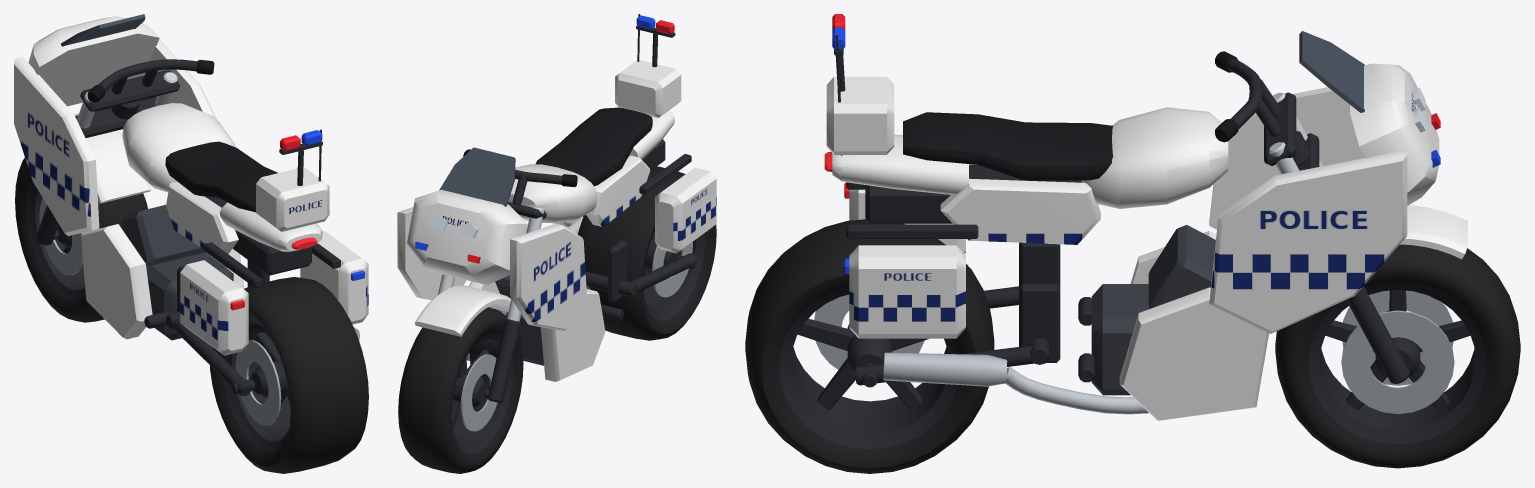
The model's file is MotorcycleTag_Police.glb.
3 views of the same model, side by side, from view 1: azimuth 30°, elevation 25°; view 2: azimuth 150°, elevation 25°; view 3: azimuth 270°, elevation 25° (orthographic). The views are drawn at different scales.
Visible parts, largest first — view 1: Bodywork, RearWheel, Panniers, FrontWheel, Engine, Seat, Frame, Fork, FrontFender, Handlebars, Swingarm, Windshield (+2 smaller); view 2: Bodywork, FrontWheel, RearWheel, Panniers, Seat, Windshield, FrontFender, Fork, Frame, Swingarm, Engine, Handlebars (+1 smaller); view 3: Bodywork, FrontWheel, RearWheel, Panniers, Frame, Seat, Engine, Exhaust, Fork, Windshield, Handlebars, FrontFender (+1 smaller).
Boxes of the visible parts, box(x1,y1,x2,y2) form: Bodywork: box(14, 16, 322, 339); RearWheel: box(210, 277, 368, 473); Panniers: box(180, 129, 368, 355); FrontWheel: box(15, 158, 147, 322); Engine: box(121, 204, 233, 340); Seat: box(165, 141, 277, 212); Frame: box(111, 100, 340, 328); Fork: box(36, 70, 180, 245); FrontFender: box(74, 113, 151, 203); Handlebars: box(87, 59, 214, 102); Swingarm: box(166, 311, 255, 396); Windshield: box(61, 14, 145, 46); Bodywork: box(397, 110, 674, 381); FrontWheel: box(398, 307, 523, 473); RearWheel: box(578, 166, 716, 340); Panniers: box(552, 14, 716, 253); Seat: box(535, 107, 652, 186); Windshield: box(439, 147, 515, 206); FrontFender: box(415, 285, 511, 336); Fork: box(438, 202, 546, 402); Frame: box(583, 139, 691, 320); Swingarm: box(585, 253, 697, 296); Engine: box(494, 275, 590, 365); Handlebars: box(463, 149, 577, 204); Bodywork: box(832, 63, 1439, 420); FrontWheel: box(1275, 244, 1520, 468); RearWheel: box(745, 219, 994, 473); Panniers: box(826, 35, 965, 338); Frame: box(846, 131, 1311, 382); Seat: box(903, 112, 1113, 180); Engine: box(1091, 225, 1215, 395); Exhaust: box(883, 352, 1148, 414); Fork: box(1264, 92, 1409, 383); Windshield: box(1299, 31, 1364, 112); Handlebars: box(1215, 51, 1281, 142); FrontFender: box(1400, 205, 1467, 259).
Size of the model in its own units: 2.42 by 5.1 by 8.22.
1 material, 1 textured.
